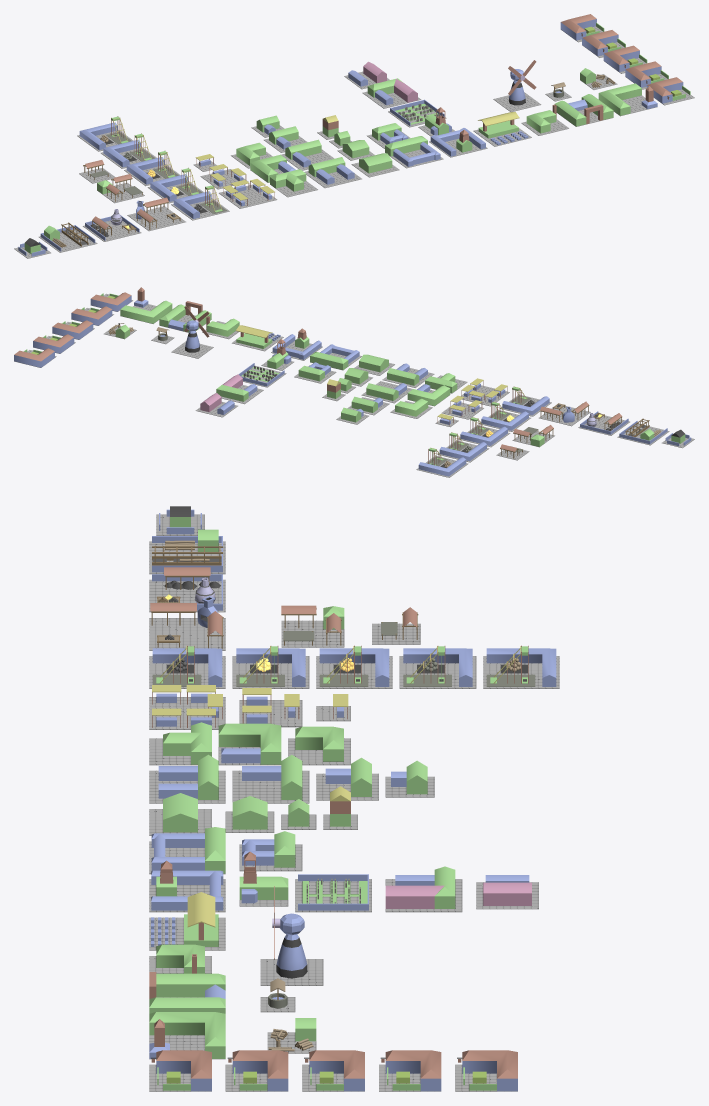
Rendered from main-transmission.glb.
The picture shows the model from 3 angles, top to bottom: view 1: azimuth 30°, elevation 25°; view 2: azimuth 150°, elevation 25°; view 3: azimuth 270°, elevation 25°; orthographic projection. The views are drawn at different scales.
Parts seen in each view (by area): view 1: building_9m_3m_g_shape_006, ground_11_x_11_012, building_7m_3m_021, building_7m_3m_g_shape_011, building_7m_3m_g_shape_013, building_7m_3m_g_shape_012, building_7m_3m_g_shape_010, building_7m_3m_g_shape_009, building_9m_3m_g_shape_007, building_7m_3m_014, ground_11_x_11_002, building_9m_3m_024 (+16 smaller); view 2: building_9m_3m_g_shape_006, building_7m_3m_g_shape_013, building_9m_3m_g_shape_007, building_7m_3m_g_shape_010, building_7m_3m_g_shape_012, building_7m_3m_g_shape_011, building_7m_3m_g_shape_009, building_7m_3m_021, building_7m_3m_011, building_9m_3m_024, building_9m_3m_026, building_9m_3m_025 (+17 smaller); view 3: building_9m_3m_g_shape_006, building_9m_3m_g_shape_007, ground_11_x_11_012, building_7m_3m_g_shape_010, building_7m_3m_g_shape_012, building_7m_3m_g_shape_009, building_7m_3m_g_shape_011, building_7m_3m_g_shape_013, building_7m_3m_021, building_7m_3m_014, Cylinder002, building_9m_3m_011 (+29 smaller).
Boxes of the visible parts, x1,y1,x2,y2 form: building_9m_3m_g_shape_006: (598,83,641,115); ground_11_x_11_012: (127,206,185,231); building_7m_3m_021: (430,128,485,156); building_7m_3m_g_shape_011: (603,45,639,71); building_7m_3m_g_shape_013: (560,14,596,40); building_7m_3m_g_shape_012: (582,30,618,56); building_7m_3m_g_shape_010: (625,61,661,87); building_7m_3m_g_shape_009: (646,77,683,103); building_9m_3m_g_shape_007: (250,154,286,182); building_7m_3m_014: (393,142,440,166); ground_11_x_11_002: (219,184,277,208); building_9m_3m_024: (79,122,117,150); building_9m_3m_g_shape_006: (120,300,172,323); building_7m_3m_g_shape_013: (14,348,54,367); building_9m_3m_g_shape_007: (407,385,450,405); building_7m_3m_g_shape_010: (71,306,112,325); building_7m_3m_g_shape_012: (33,334,74,353); building_7m_3m_g_shape_011: (52,320,93,339); building_7m_3m_g_shape_009: (90,292,131,311); building_7m_3m_021: (272,334,321,359); building_7m_3m_011: (310,352,348,369); building_9m_3m_024: (418,457,466,476); building_9m_3m_026: (460,426,507,445); building_9m_3m_025: (439,442,486,461); building_9m_3m_g_shape_006: (149,1012,225,1058); building_9m_3m_g_shape_007: (218,723,281,764); ground_11_x_11_012: (149,618,225,650); building_7m_3m_g_shape_010: (232,1050,288,1091); building_7m_3m_g_shape_012: (385,1050,441,1091); building_7m_3m_g_shape_009: (156,1050,211,1091); building_7m_3m_g_shape_011: (309,1050,364,1091); building_7m_3m_g_shape_013: (462,1050,517,1091); building_7m_3m_021: (151,870,223,910); building_7m_3m_014: (151,833,204,870); Cylinder002: (276,913,307,978); building_9m_3m_011: (156,973,225,996).
Bounding box in the file's own units: 196 × 12.25 × 59.
21 materials, 1 textured.
